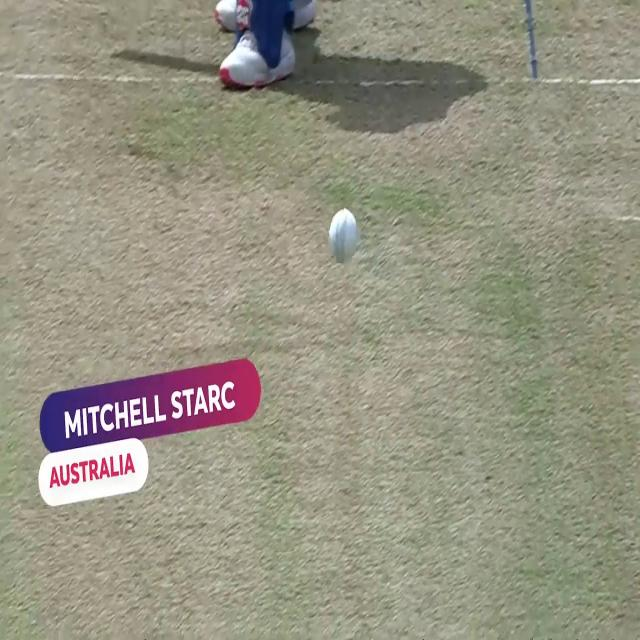ball: (329, 210, 359, 262)
